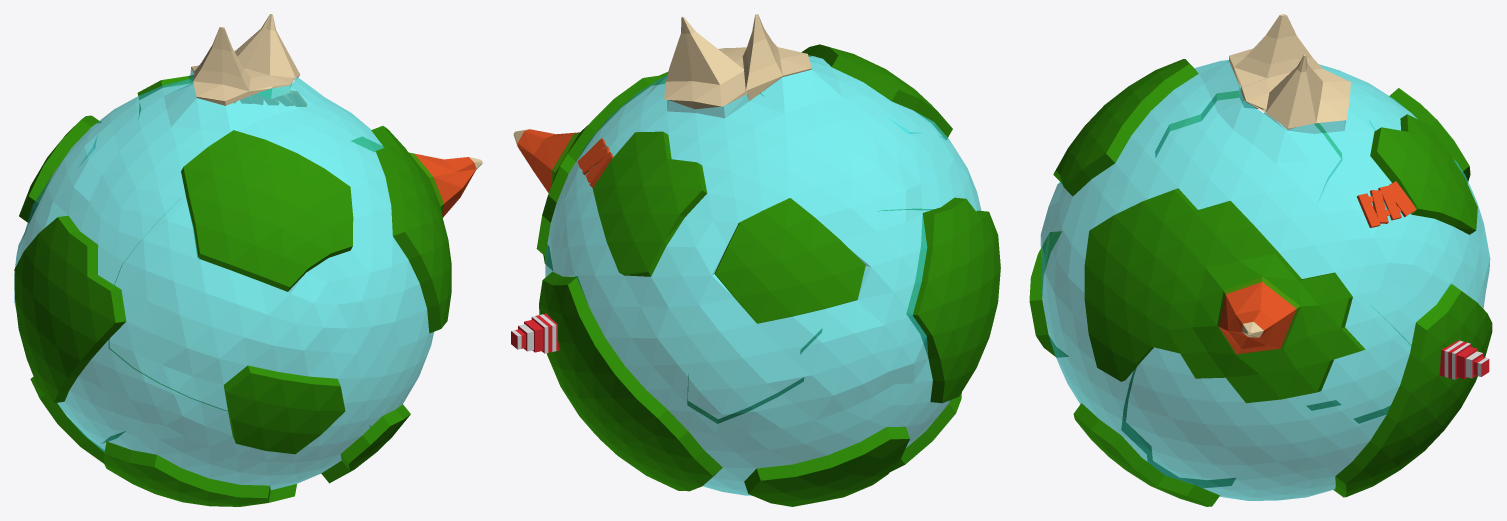
Rendered from world_00.glb.
3 views of the same model, side by side, from view 1: azimuth 30°, elevation 25°; view 2: azimuth 150°, elevation 25°; view 3: azimuth 270°, elevation 25° (orthographic). The views are drawn at different scales.
Visible parts, largest first — view 1: World; view 2: World; view 3: World.
Part boxes in pixels (left/top/right/bottom): World: left=14, top=14, right=482, bottom=506; World: left=511, top=14, right=1000, bottom=506; World: left=1029, top=14, right=1492, bottom=506.
Bounding box in the file's own units: 2.41 × 2.36 × 2.08.
